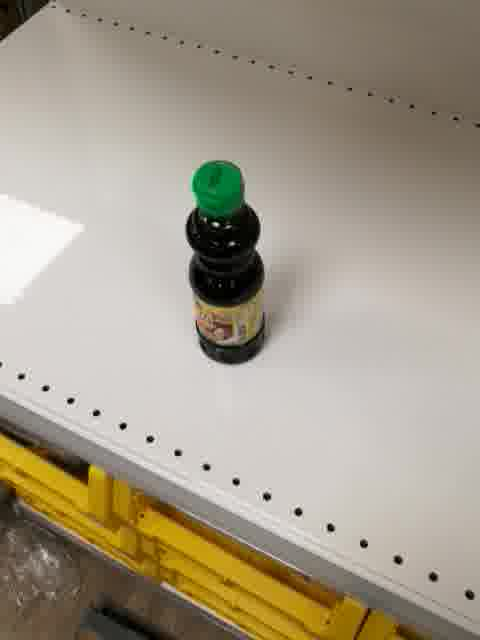cookingoil: (184, 158, 268, 366)
